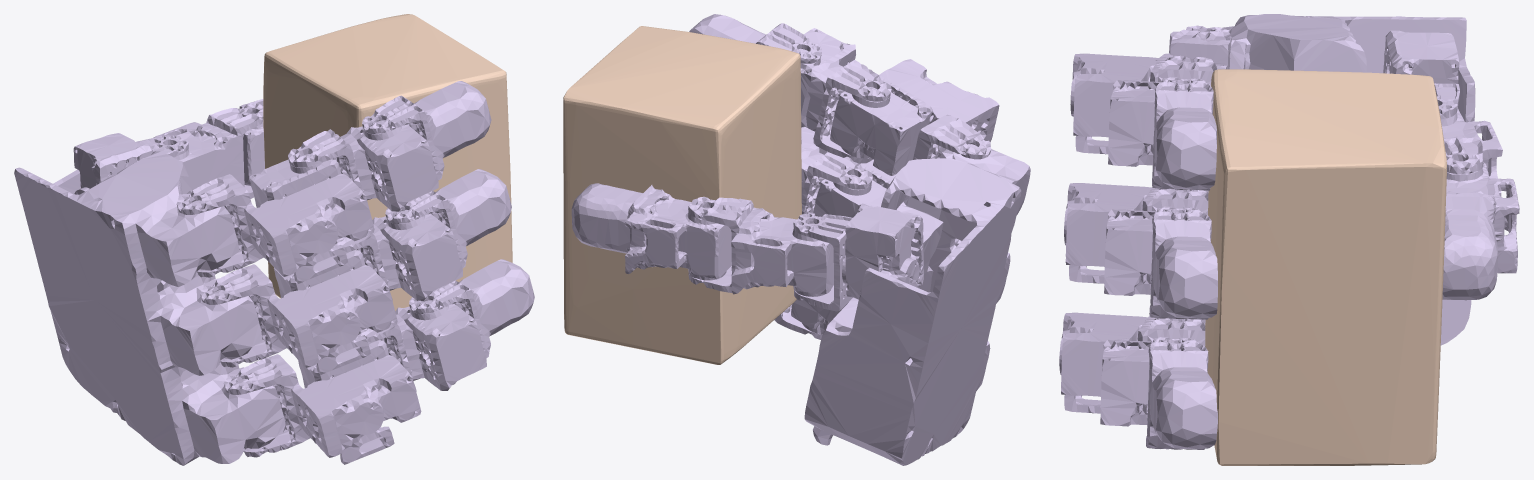
The picture shows the model from 3 angles, left to right: view 1: azimuth 30°, elevation 25°; view 2: azimuth 150°, elevation 25°; view 3: azimuth 270°, elevation 25°; orthographic projection. The views are drawn at different scales.
Visible parts, largest first — view 1: LEAP_hand, world; view 2: LEAP_hand, world; view 3: world, LEAP_hand.
Part boxes in pixels (x1,y1,x2,y2): LEAP_hand: (14,81,534,465); world: (263,14,512,310); LEAP_hand: (571,14,1030,465); world: (563,26,801,364); world: (1205,69,1446,465); LEAP_hand: (1059,14,1519,449).
Size of the model in its own units: 0.1981 by 0.1541 by 0.1578.
